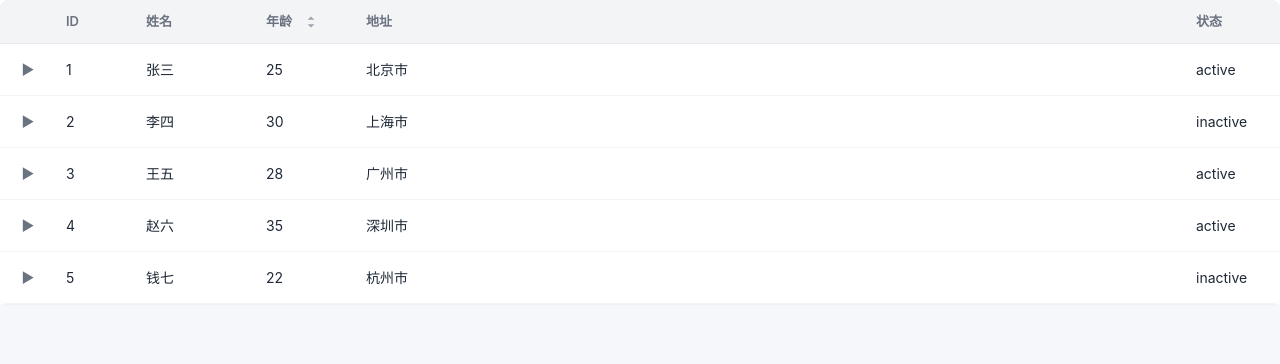
Scenario: Table 组件 › 选择功能 › 点击展开图标应该展开/收起行
Click the icon with class "ale-table__expand-icon" in the row of "张三": {"x": 28, "y": 70} [22,61,34,78]
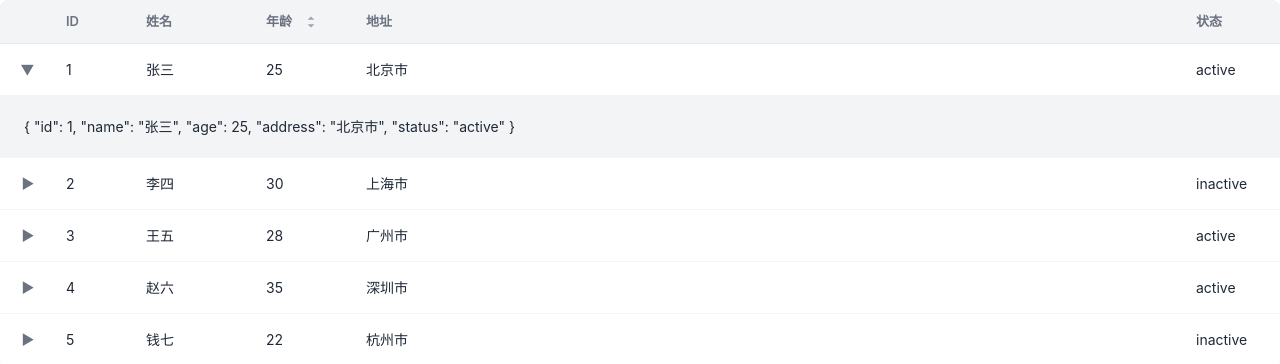
Now the row with class "ale-table__expanded-row" is shown, box [0,96,1279,158]
